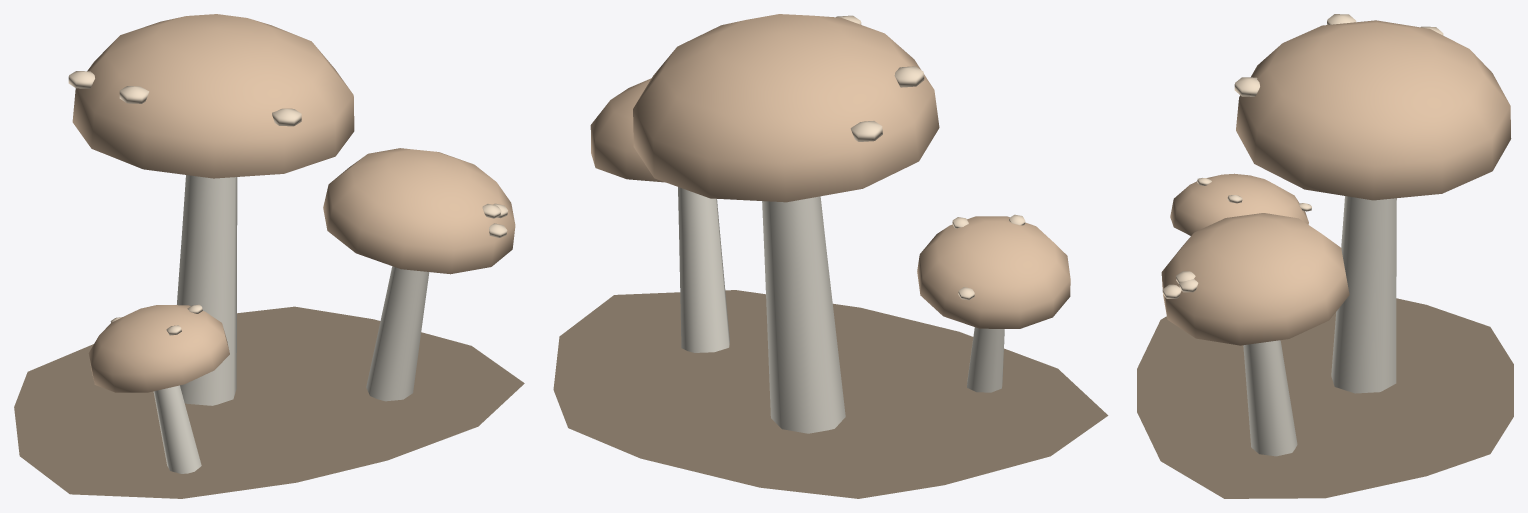
Rendered from plant-mushrooms.glb.
3 views of the same model, side by side, from view 1: azimuth 30°, elevation 25°; view 2: azimuth 150°, elevation 25°; view 3: azimuth 270°, elevation 25° (orthographic). The views are drawn at different scales.
Visible parts, largest first — view 1: Cluster, Mushrooms; view 2: Cluster, Mushrooms; view 3: Cluster, Mushrooms.
Part boxes in pixels (<box>): Cluster: <box>68,14,515,473</box>; Mushrooms: <box>14,306,524,498</box>; Cluster: <box>590,14,1070,433</box>; Mushrooms: <box>553,290,1108,498</box>; Cluster: <box>1161,14,1511,456</box>; Mushrooms: <box>1137,298,1513,498</box>.
Size of the model in its own units: 0.2013 by 0.1514 by 0.1478.
